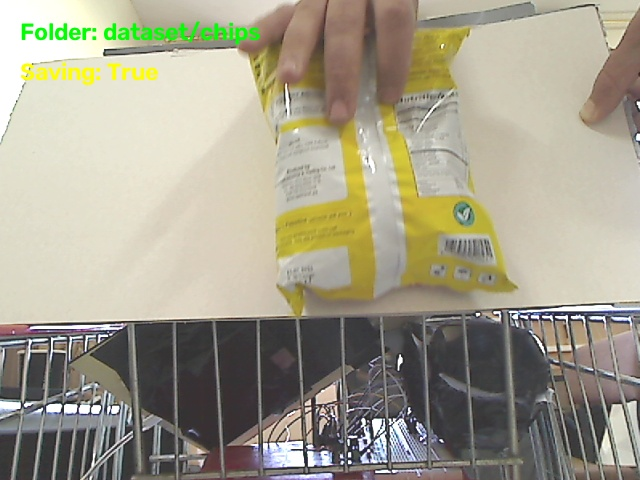chips: (251, 28, 515, 314)
